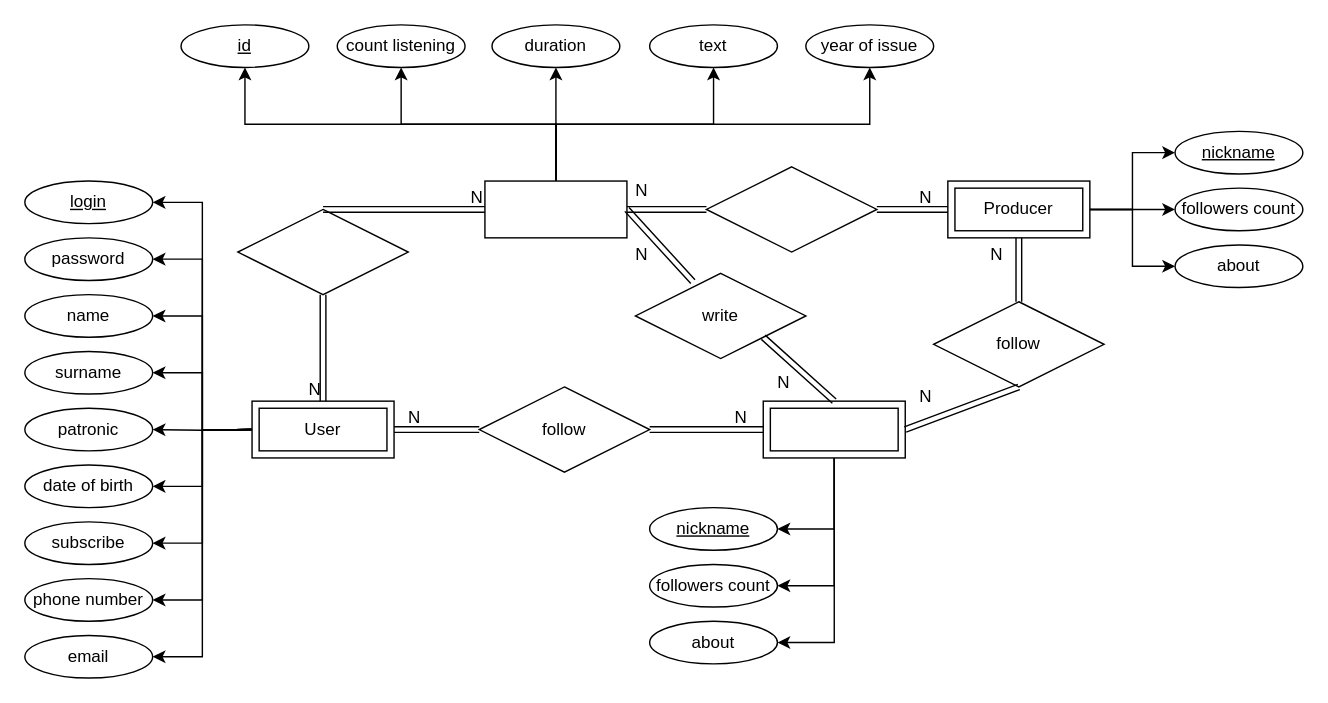
Image size: 1328x703. Some labels were removed from this diagram. Here are the shapes that lost their labels. From the top down, the box of each, then its label:
(484, 180, 627, 238): Track
(705, 165, 877, 252): produce
(236, 208, 408, 295): listen
(762, 400, 905, 458): Musician
